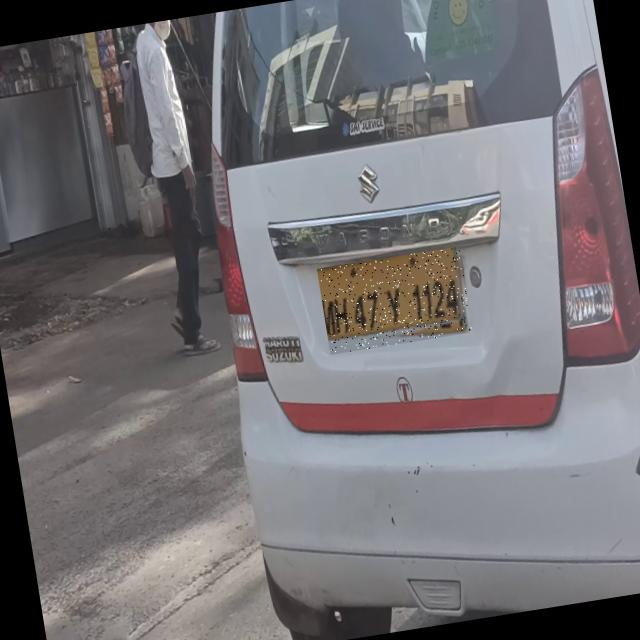Plate: (319, 248, 475, 356)
